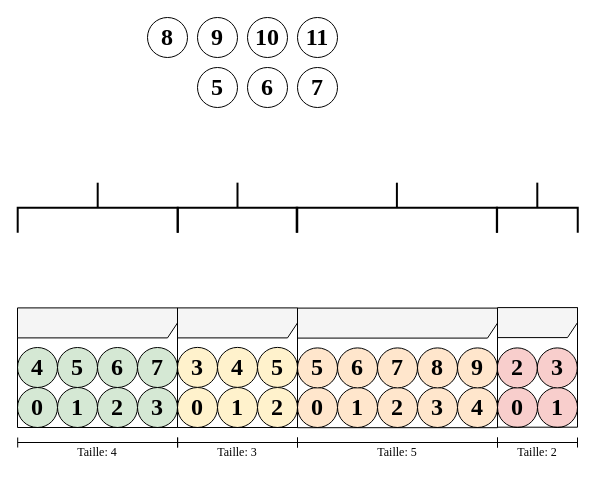
This 597x485 diagram has some shape labels left out. Each missing label, with the centre of its shape:
"Régiment 0" belongs at (x=97, y=367).
"Régiment 1" belongs at (x=237, y=367).
"Régiment 2" belongs at (x=397, y=367).
"Régiment 3" belongs at (x=537, y=367).
"Régiment_0" belongs at (x=97, y=207).
"Régiment_1" belongs at (x=237, y=207).
"Régiment_2" belongs at (x=396, y=207).
"Régiment_3" belongs at (x=536, y=207).
